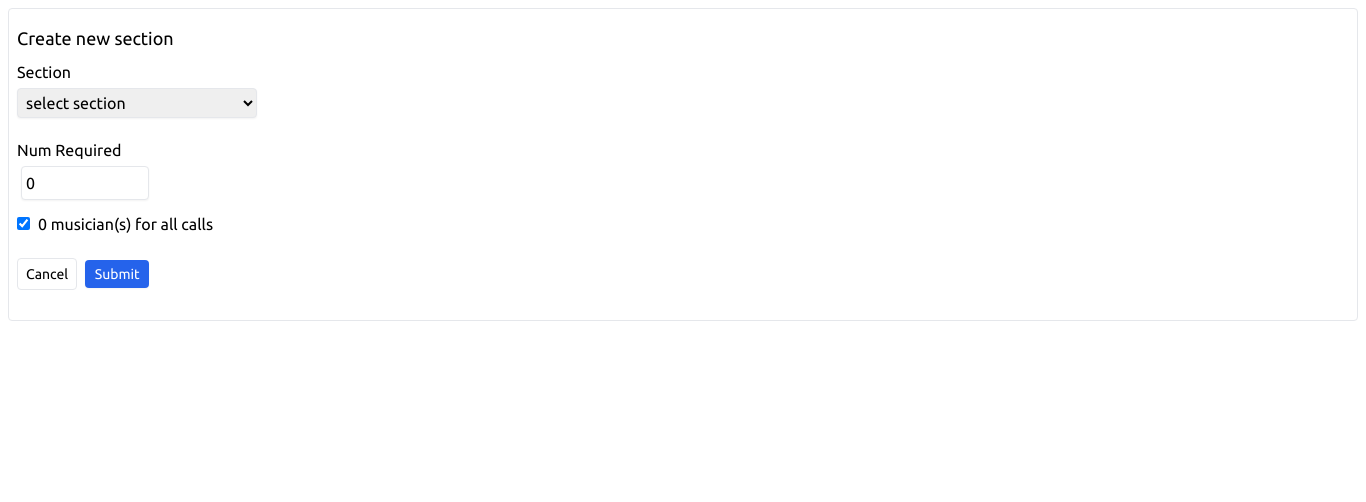
Test: <CreateEventSection /> › expected err messages render on submit btn click
The image size is (1366, 502).
Click the button "Submit": (117, 274) [85,260,149,288]
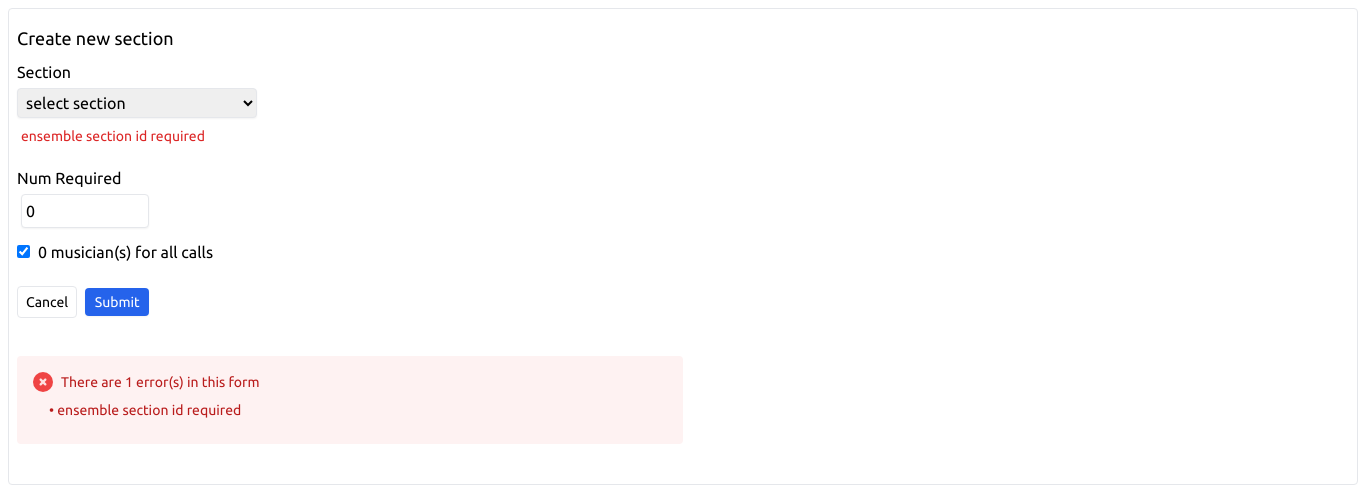
Expected: the element with test id "create-event-section" shows "ensemble section id required", [21,128,205,144]
